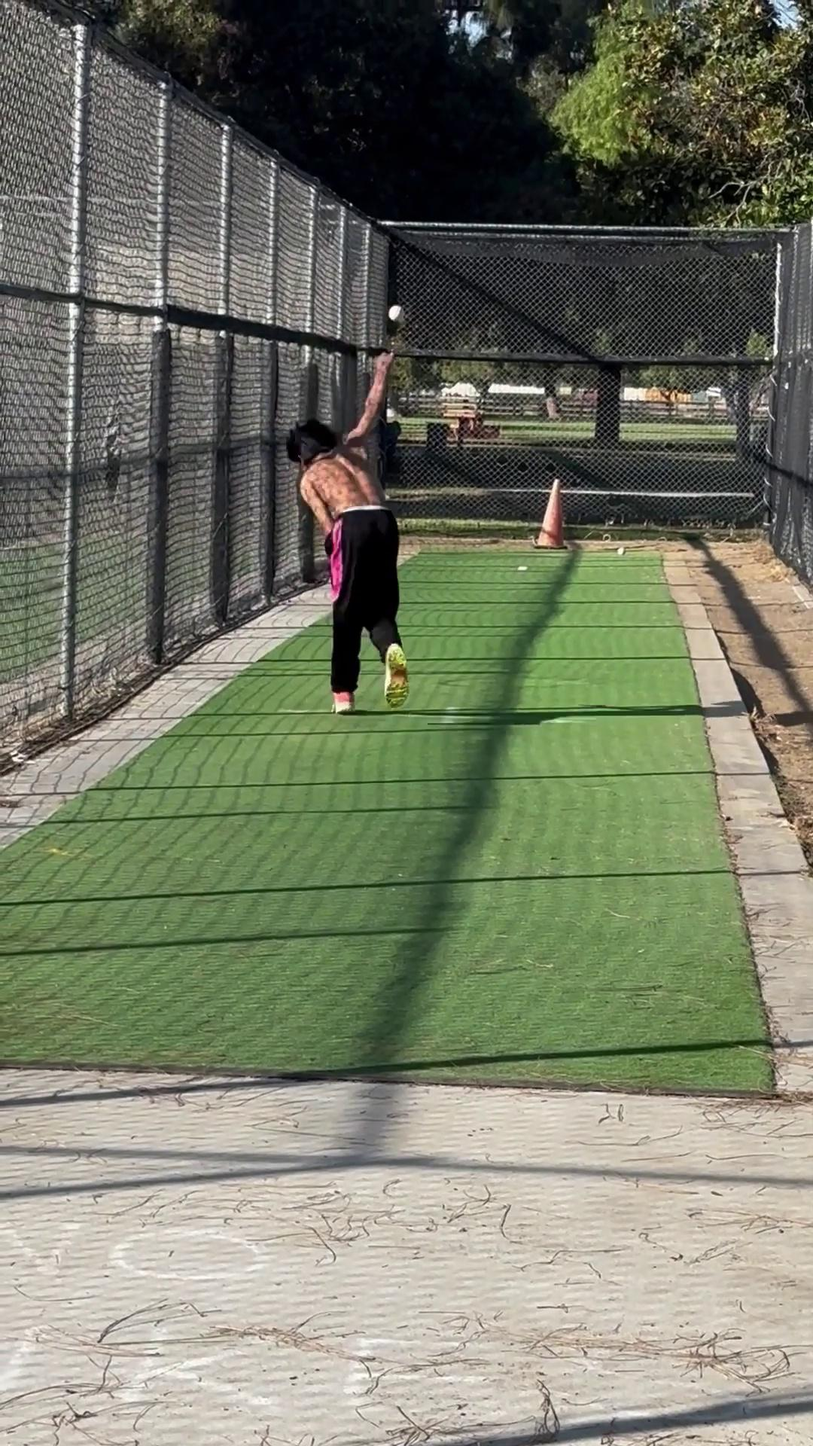ball: (383, 302, 410, 326)
